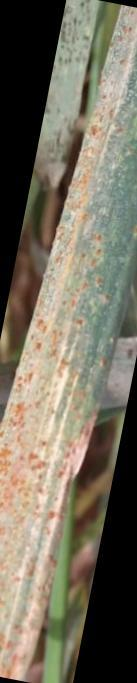Wheat: (0, 192, 120, 680)
